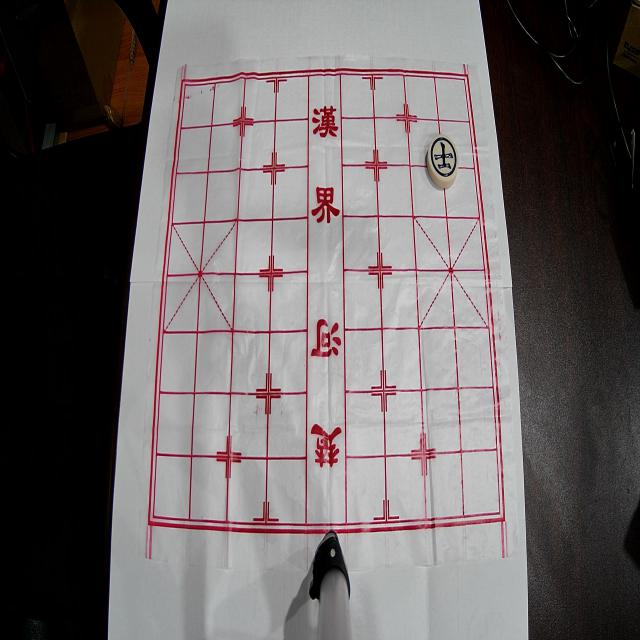black-guard: (427, 134, 459, 188)
